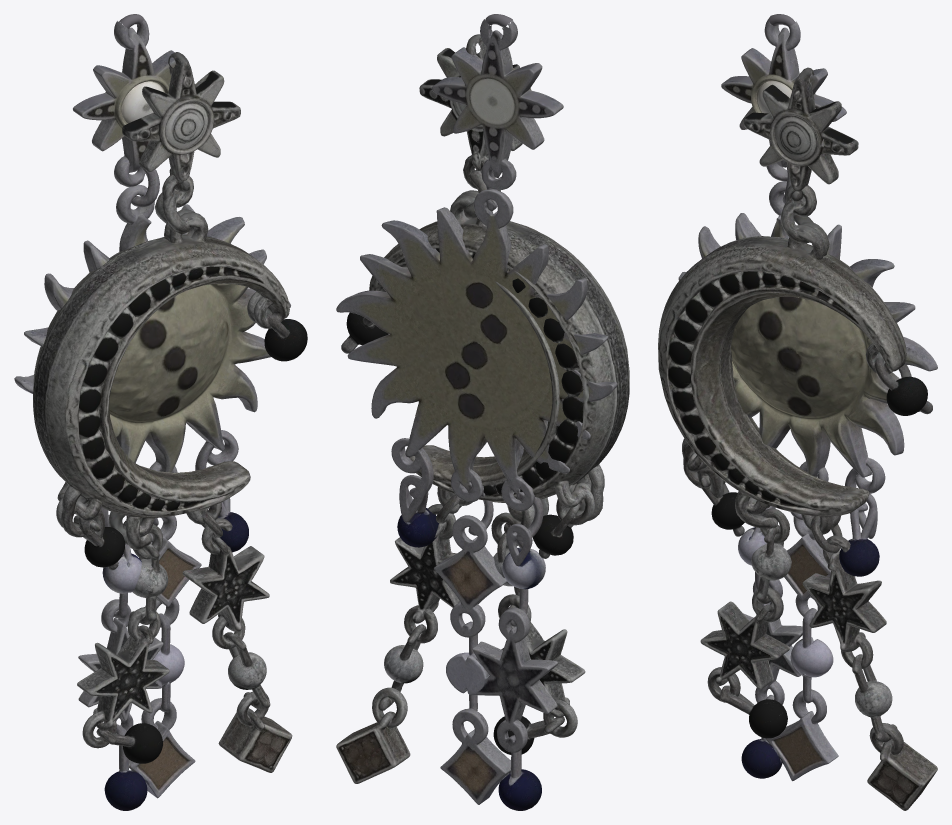
File: earrings.glb
The picture shows the model from 3 angles, left to right: view 1: azimuth 30°, elevation 25°; view 2: azimuth 150°, elevation 25°; view 3: azimuth 330°, elevation 25°; orthographic projection. The views are drawn at different scales.
Visible parts, largest first — view 1: moon.pendant, sun.pendant, moon.star, sun.star, moon.c1, moon.b2, moon.c3, moon.a1, moon.b1, sun.b3, moon.c2, moon.b3 (+7 smaller); view 2: sun.pendant, moon.pendant, sun.star, sun.a2, sun.b1, moon.c3, moon.c1, sun.b3, sun.a1, moon.a1, sun.c1, moon.b2 (+7 smaller); view 3: moon.pendant, sun.pendant, moon.star, moon.c1, moon.b2, sun.star, moon.c3, sun.b3, moon.b1, sun.c1, moon.c2, moon.a1 (+7 smaller).
Part boxes in pixels (x1=…): moon.pendant: x1=33, y1=174, x2=289, y2=518; sun.pendant: x1=14, y1=156, x2=290, y2=472; moon.star: x1=122, y1=52, x2=240, y2=193; sun.star: x1=73, y1=14, x2=175, y2=164; moon.c1: x1=182, y1=502, x2=269, y2=631; moon.b2: x1=77, y1=607, x2=169, y2=735; moon.c3: x1=218, y1=691, x2=292, y2=772; moon.a1: x1=56, y1=482, x2=125, y2=570; moon.b1: x1=109, y1=511, x2=168, y2=636; sun.b3: x1=129, y1=698, x2=195, y2=798; moon.c2: x1=212, y1=612, x2=270, y2=709; moon.b3: x1=82, y1=711, x2=162, y2=763; sun.pendant: x1=336, y1=155, x2=617, y2=495; moon.pendant: x1=369, y1=155, x2=629, y2=502; sun.star: x1=431, y1=14, x2=563, y2=165; sun.a2: x1=472, y1=610, x2=557, y2=722; sun.b1: x1=434, y1=471, x2=507, y2=607; moon.c3: x1=336, y1=687, x2=410, y2=783; moon.c1: x1=390, y1=487, x2=472, y2=611; sun.b3: x1=440, y1=708, x2=511, y2=804; sun.a1: x1=501, y1=480, x2=545, y2=626; moon.a1: x1=532, y1=464, x2=604, y2=558; sun.c1: x1=391, y1=438, x2=438, y2=547; moon.b2: x1=498, y1=591, x2=585, y2=718; moon.pendant: x1=658, y1=185, x2=906, y2=516; sun.pendant: x1=678, y1=160, x2=937, y2=476; moon.star: x1=744, y1=67, x2=858, y2=201; moon.c1: x1=801, y1=514, x2=886, y2=651; moon.b2: x1=700, y1=587, x2=789, y2=692; sun.star: x1=721, y1=14, x2=846, y2=145; moon.c3: x1=867, y1=723, x2=937, y2=810; sun.b3: x1=766, y1=689, x2=838, y2=781; moon.b1: x1=735, y1=491, x2=791, y2=611; sun.c1: x1=839, y1=458, x2=885, y2=576; moon.c2: x1=841, y1=632, x2=892, y2=742; moon.a1: x1=682, y1=438, x2=744, y2=536.
Size of the model in its own units: 0.6033 by 1.64 by 0.1748.
Materials: 2 (2 with a texture image).
